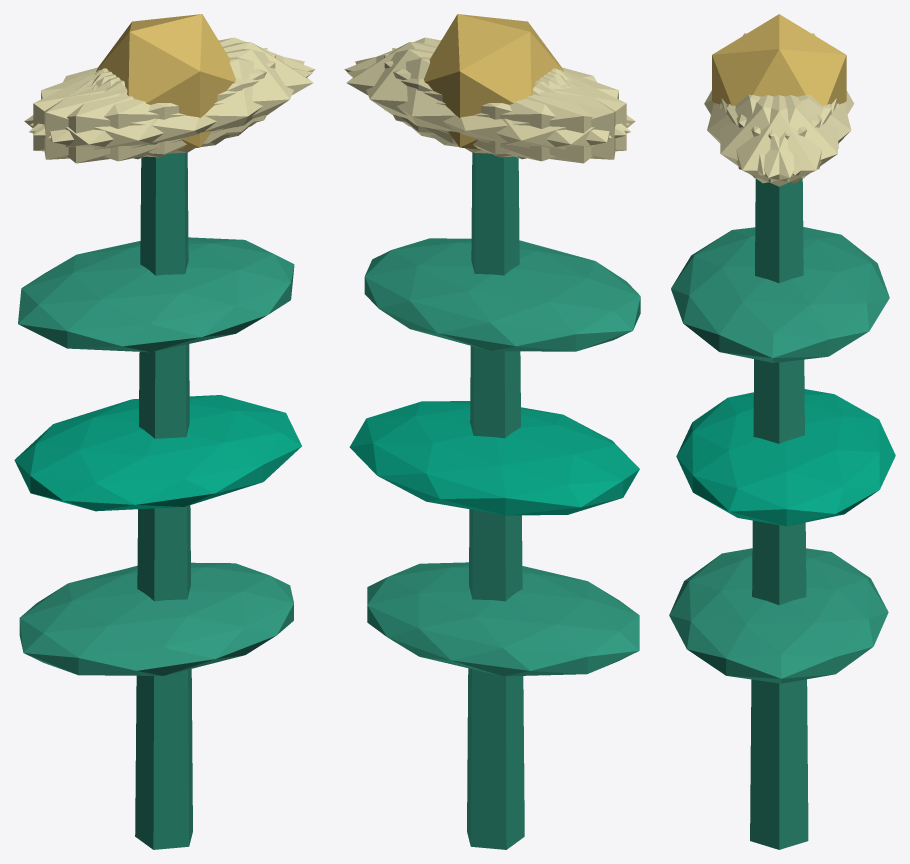
Rendered from terminalia-mantaly.glb.
3 renders of one model, left to right at view 1: azimuth 30°, elevation 25°; view 2: azimuth 150°, elevation 25°; view 3: azimuth 270°, elevation 25°, orthographic.
Visible parts, largest first — view 1: stem, leaf2, leaf1, leaf0, center, petal1, petal6, petal2, petal5, petal7, petal0, petal4 (+2 smaller); view 2: stem, leaf1, leaf2, leaf0, center, petal8, petal3, petal7, petal4, petal2, petal0, petal5 (+2 smaller); view 3: stem, leaf2, leaf1, leaf0, center, petal0, petal4, petal5, petal1, petal8.
Boxes of the visible parts, x1,y1,x2,y2 form: stem: [135, 152, 192, 849]; leaf2: [18, 237, 294, 352]; leaf1: [14, 395, 301, 511]; leaf0: [19, 562, 293, 675]; center: [96, 14, 235, 149]; petal1: [29, 57, 312, 161]; petal6: [24, 70, 229, 163]; petal2: [44, 48, 267, 159]; petal5: [48, 49, 304, 154]; petal7: [33, 54, 275, 157]; petal0: [95, 42, 313, 144]; petal4: [30, 37, 315, 135]; stem: [467, 152, 524, 849]; leaf1: [349, 401, 639, 515]; leaf2: [364, 238, 640, 351]; leaf0: [367, 562, 639, 676]; center: [424, 14, 563, 149]; petal8: [347, 57, 630, 161]; petal3: [430, 70, 635, 163]; petal7: [392, 48, 615, 159]; petal4: [355, 49, 611, 154]; petal2: [384, 54, 626, 157]; petal0: [346, 42, 564, 144]; petal5: [344, 37, 629, 135]; stem: [750, 178, 808, 849]; leaf2: [671, 227, 889, 362]; leaf1: [676, 389, 895, 526]; leaf0: [669, 548, 888, 683]; center: [712, 14, 846, 105]; petal0: [721, 95, 836, 186]; petal4: [726, 95, 838, 183]; petal5: [720, 95, 831, 183]; petal1: [707, 94, 821, 175]; petal8: [736, 94, 851, 175].
Bounding box in the file's own units: 0.1498 × 0.4047 × 0.1033.
